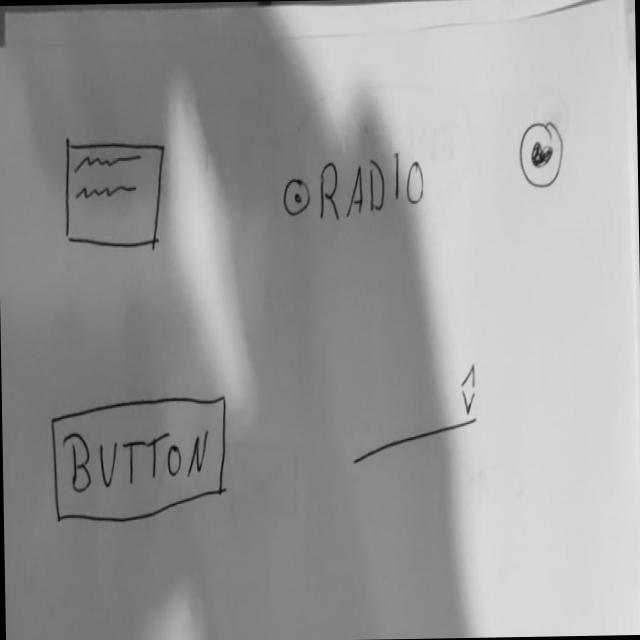button: (50, 393, 231, 528)
icon-button: (518, 117, 567, 192)
number-input: (350, 358, 482, 471)
radio: (281, 151, 427, 229)
textarea: (63, 135, 169, 252)
